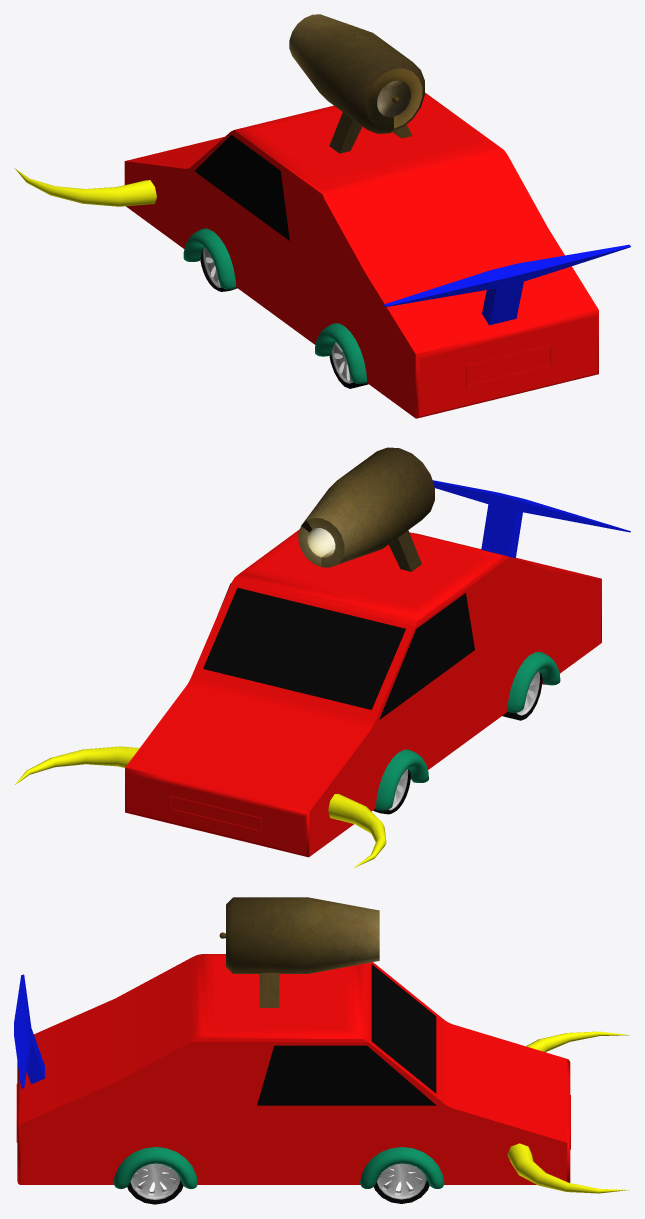
The model's file is Carrozzeria.fbx.
The picture shows the model from 3 angles, top to bottom: view 1: azimuth 30°, elevation 25°; view 2: azimuth 150°, elevation 25°; view 3: azimuth 270°, elevation 25°; orthographic projection. The views are drawn at different scales.
Visible parts, largest first — view 1: Carrozzeria, Cannone, finestrino laterale, Alettone, Parafango (×2), Corno1; view 2: Carrozzeria, Finestrino001, Cannone, finestrino laterale, Alettone, Parafango (×2), Corno002, Corno1; view 3: Carrozzeria, Cannone, finestrino laterale001, Finestrino001, Parafango (×2), Cerchione (×2), Alettone, Corno002, Corno1.
Part boxes in pixels (x1,y1,x2,y2): Carrozzeria: [124, 92, 598, 418]; Cannone: [289, 14, 424, 153]; finestrino laterale: [194, 135, 289, 240]; Alettone: [384, 244, 630, 325]; Parafango (×2): [183, 228, 367, 383]; Corno1: [14, 168, 156, 206]; Carrozzeria: [125, 529, 601, 857]; Finestrino001: [203, 587, 405, 709]; Cannone: [298, 447, 434, 571]; finestrino laterale: [379, 593, 474, 719]; Alettone: [432, 480, 630, 558]; Parafango (×2): [375, 652, 560, 810]; Corno002: [15, 746, 139, 784]; Corno1: [328, 794, 386, 867]; Carrozzeria: [16, 954, 570, 1184]; Cannone: [219, 897, 379, 1007]; finestrino laterale001: [257, 1045, 436, 1105]; Finestrino001: [371, 964, 436, 1093]; Parafango (×2): [113, 1147, 444, 1188]; Cerchione (×2): [130, 1163, 426, 1199]; Alettone: [14, 974, 44, 1088]; Corno002: [507, 1143, 628, 1193]; Corno1: [526, 1031, 628, 1052].
Size of the model in its own units: 60.74 by 46.35 by 99.31.
Materials: 8 (8 with a texture image).
